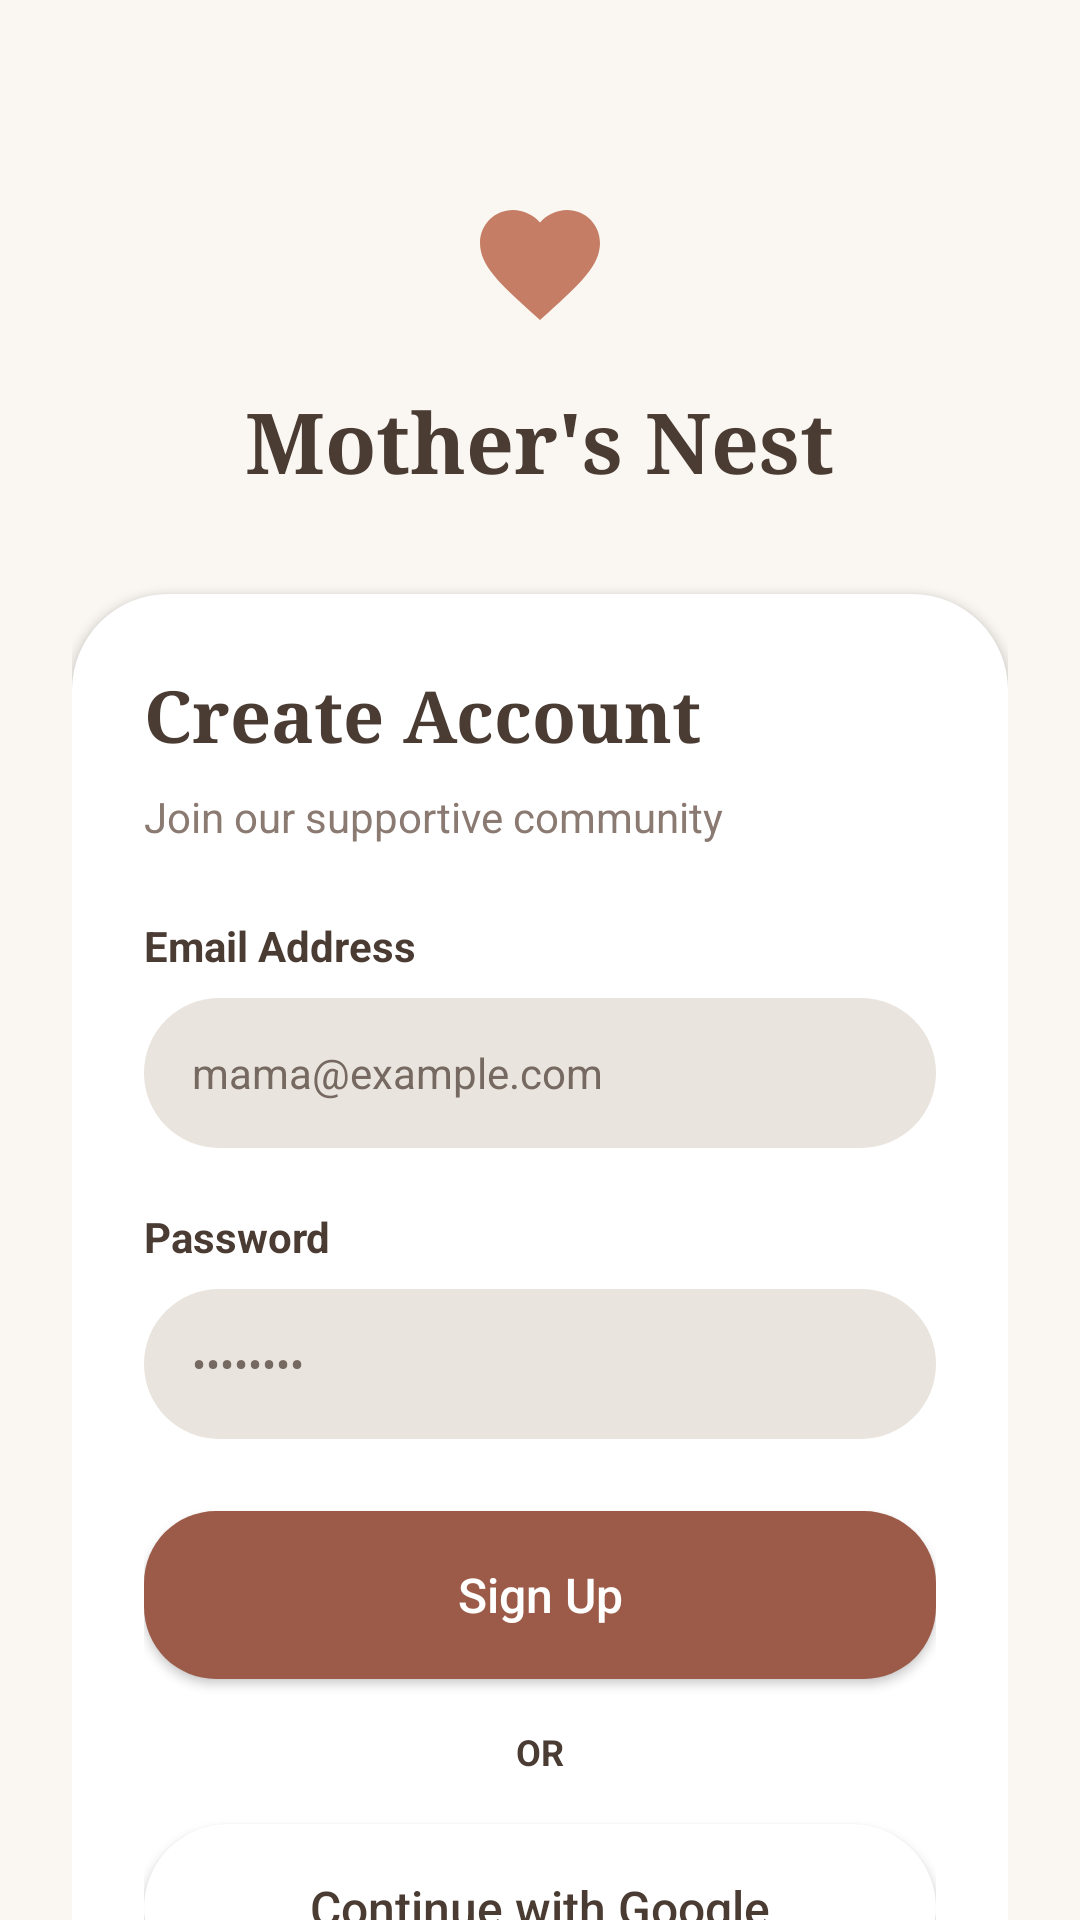

Icons on this 1080w x 1920h Android screen, each with the point to tap as point (x, y):
heart: point (540, 265)
